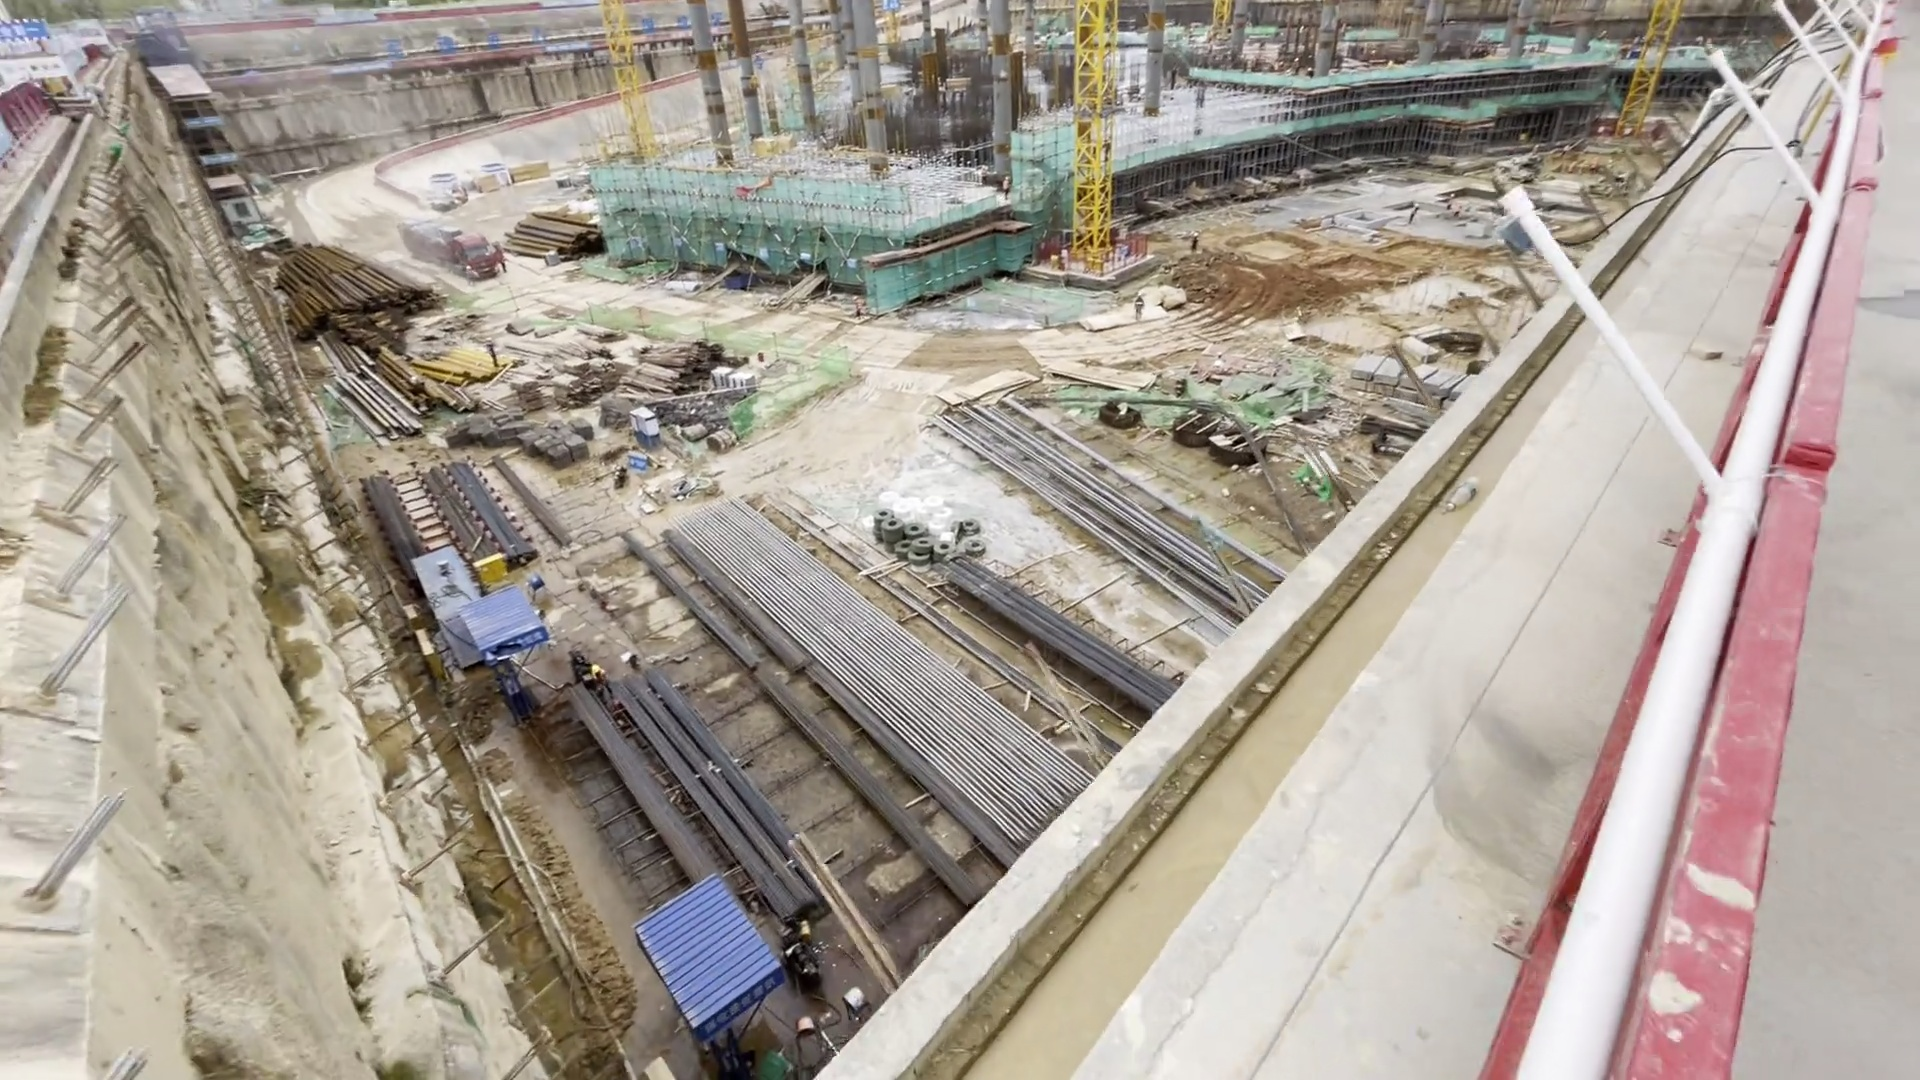brick: (1359, 353, 1466, 415), (714, 367, 755, 395)
ebox: (474, 552, 511, 579), (1081, 255, 1110, 282)
fence: (1541, 95, 1895, 1080), (19, 92, 61, 125)
helmet: (589, 661, 602, 673)
hopper: (722, 268, 758, 293)
person: (587, 666, 616, 701), (1130, 294, 1149, 326), (851, 293, 866, 325), (1188, 229, 1201, 265), (1405, 203, 1422, 227), (999, 174, 1013, 197)
rebar: (594, 716, 825, 928), (959, 569, 1175, 704), (833, 735, 1009, 877), (651, 548, 799, 685), (442, 478, 522, 557), (375, 476, 420, 567)
slogan: (378, 29, 551, 54), (491, 635, 548, 645)
wood: (519, 368, 631, 404), (636, 345, 702, 380)
